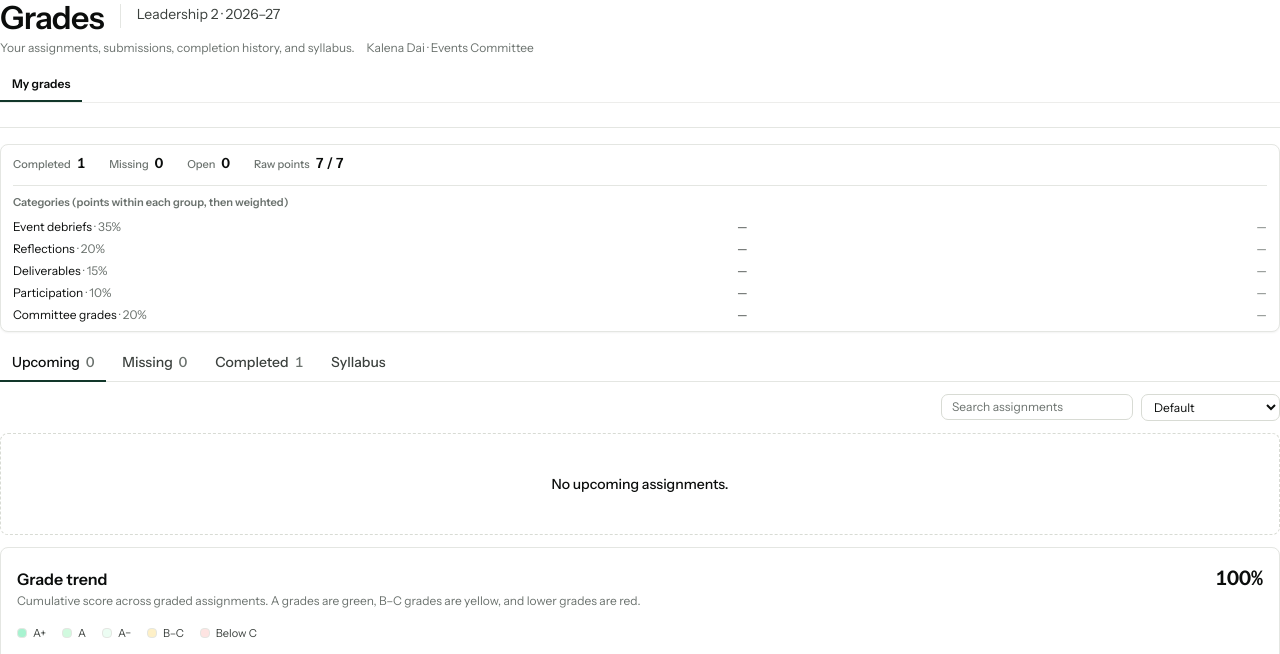
GradesPage › injecting a different provider changes rendered data without page-code changes
Click the tab "Completed1" at [259, 362], box [203,344,315,382]
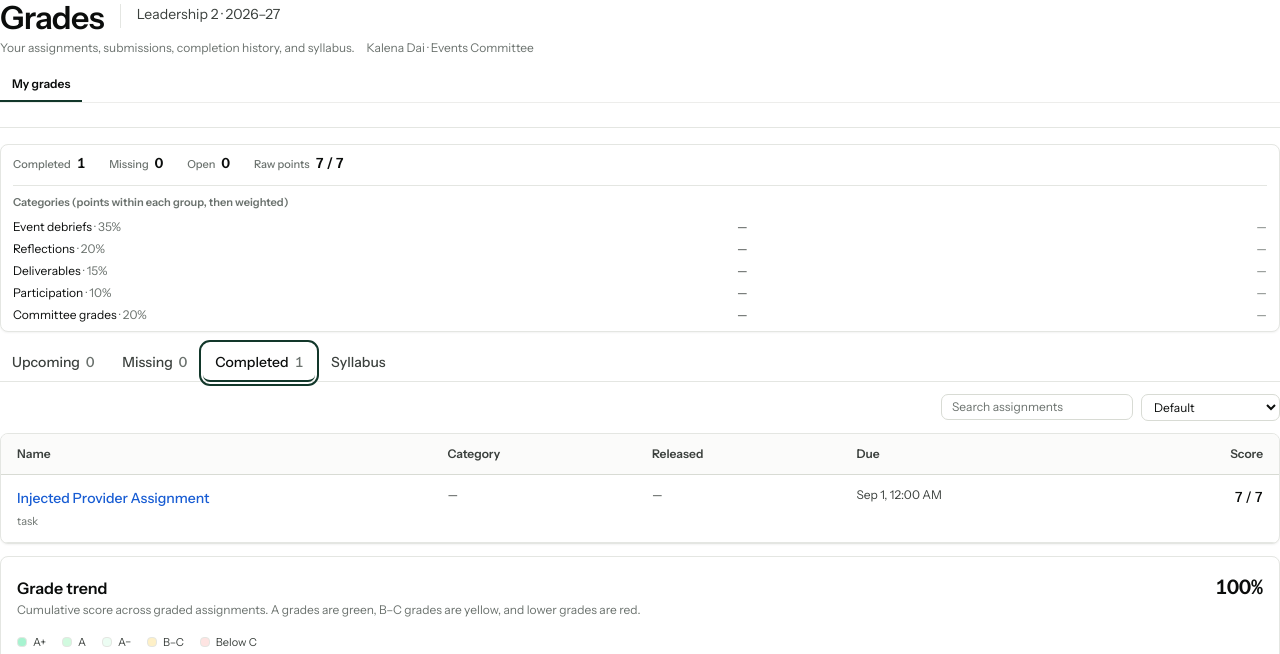
Expected: the text "7 / 7" is shown, [316,153,344,173]
Expected: the link "Injected Provider Assignment" is shown, [17,488,210,506]
